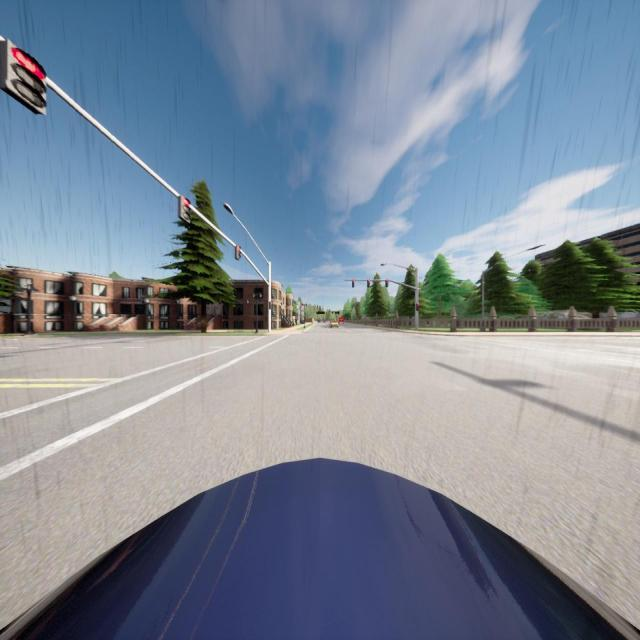Vehicle: (0, 456, 640, 640), (329, 319, 339, 328), (337, 317, 344, 325), (317, 319, 320, 323)
traffic_light: (0, 39, 48, 117), (178, 196, 190, 223), (235, 245, 241, 261), (367, 280, 370, 288), (416, 303, 419, 311), (385, 280, 388, 287), (352, 280, 354, 288), (269, 302, 271, 309)
